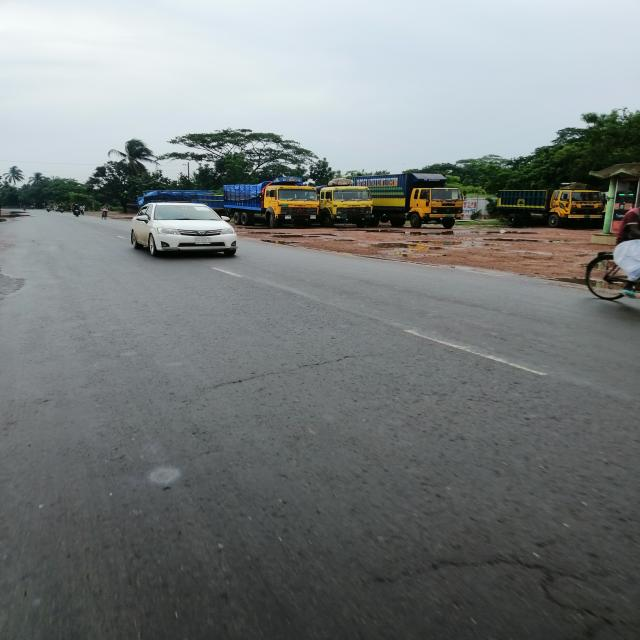Car: (125, 202, 240, 258)
Truck: (489, 186, 607, 230), (383, 173, 473, 228), (222, 181, 324, 229), (321, 177, 377, 225)
